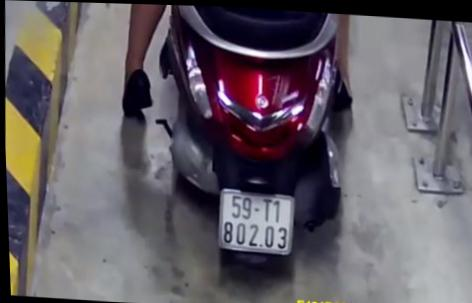LP: (210, 183, 298, 257)
